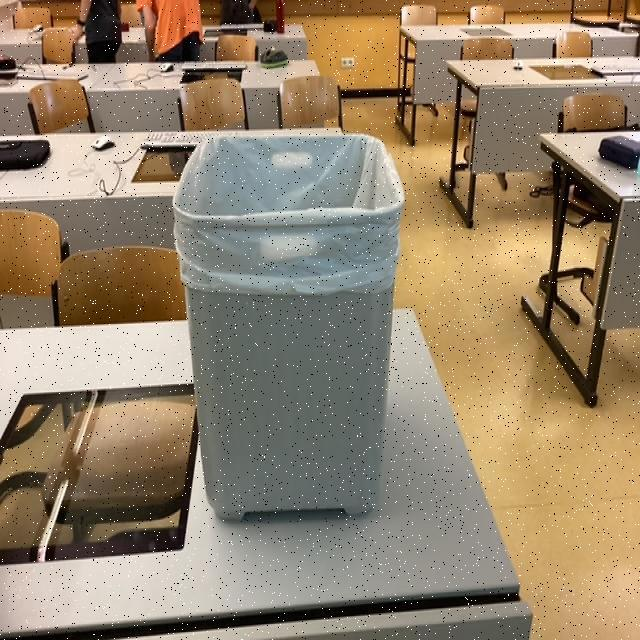garbage container: (160, 80, 426, 545)
